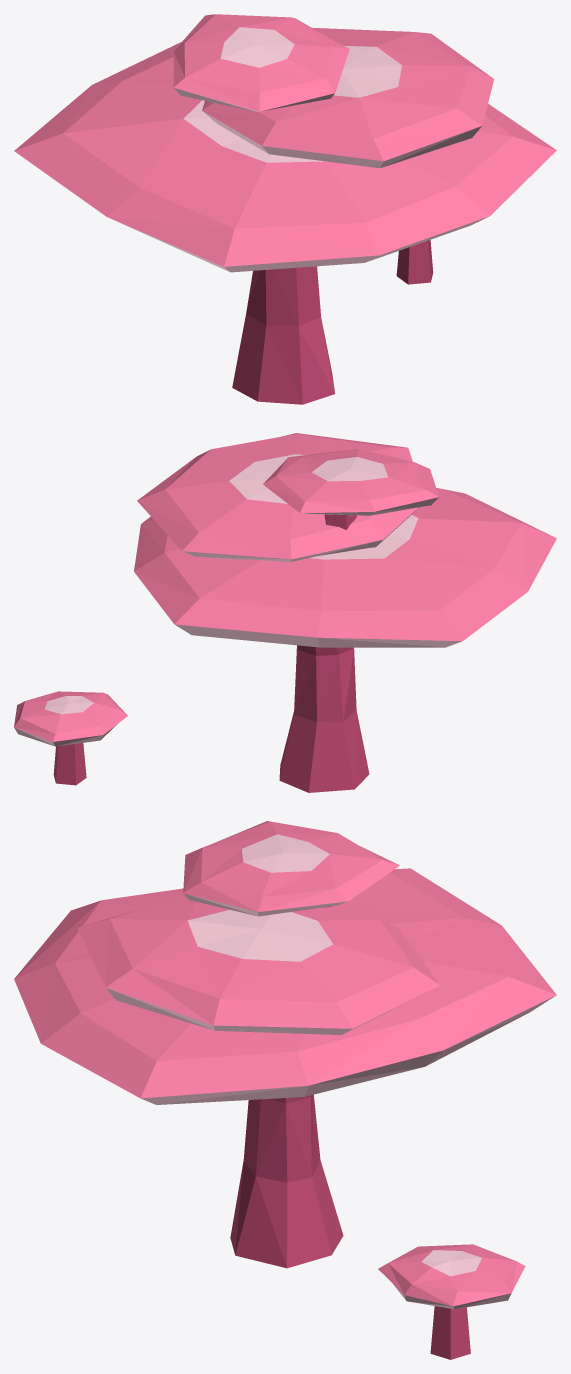
Rendered from coral_mushroom_pink.fbx.
3 views of the same model, one above another, from view 1: azimuth 30°, elevation 25°; view 2: azimuth 150°, elevation 25°; view 3: azimuth 270°, elevation 25° (orthographic). The views are drawn at different scales.
Visible parts, largest first — view 1: coral_mushroom_pink; view 2: coral_mushroom_pink; view 3: coral_mushroom_pink.
Part boxes in pixels (x1=…): coral_mushroom_pink: x1=14, y1=14, x2=556, y2=404; coral_mushroom_pink: x1=14, y1=433, x2=556, y2=792; coral_mushroom_pink: x1=14, y1=821, x2=556, y2=1359.
Size of the model in its own units: 1957 by 1366 by 1788.
1 material, 1 textured.
